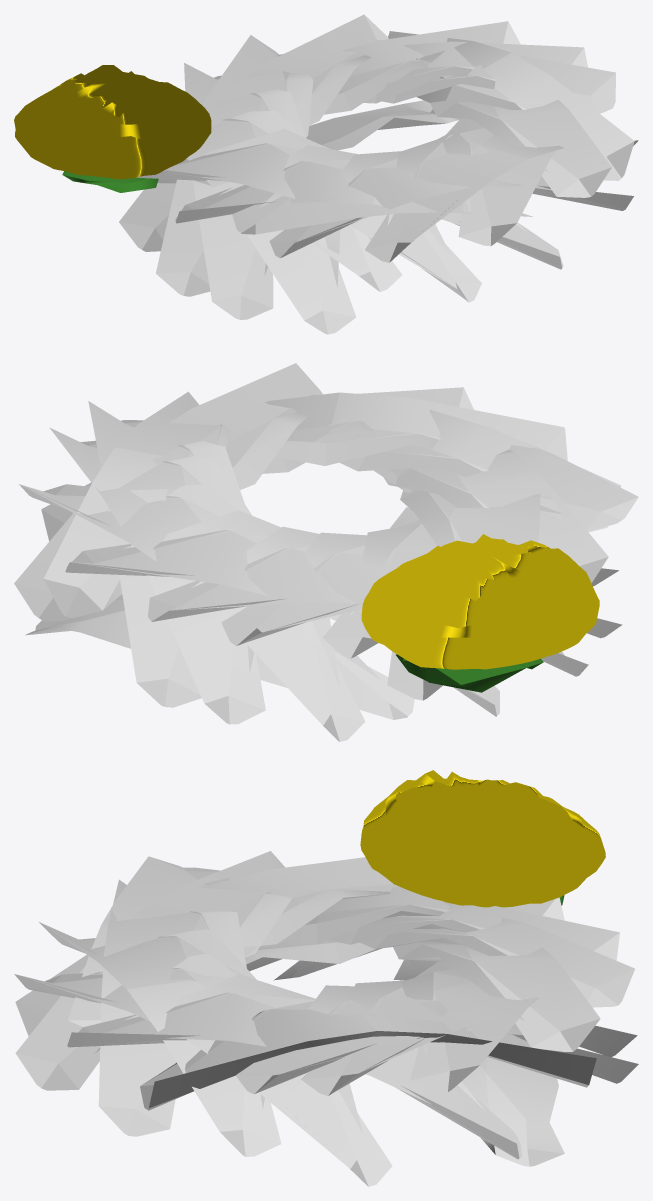
Rendered from margarita.glb.
The picture shows the model from 3 angles, top to bottom: view 1: azimuth 30°, elevation 25°; view 2: azimuth 150°, elevation 25°; view 3: azimuth 270°, elevation 25°; orthographic projection. The views are drawn at different scales.
Size of the model in its own units: 4.94 by 1.47 by 4.33.
